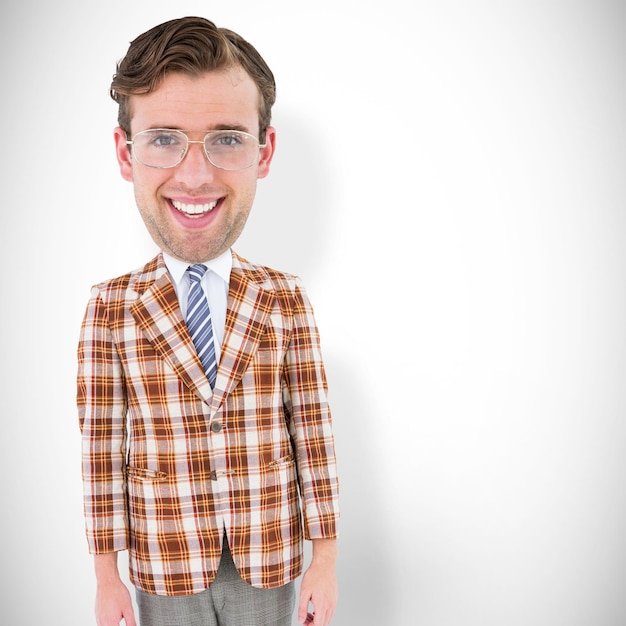young: (105, 25, 277, 243)
